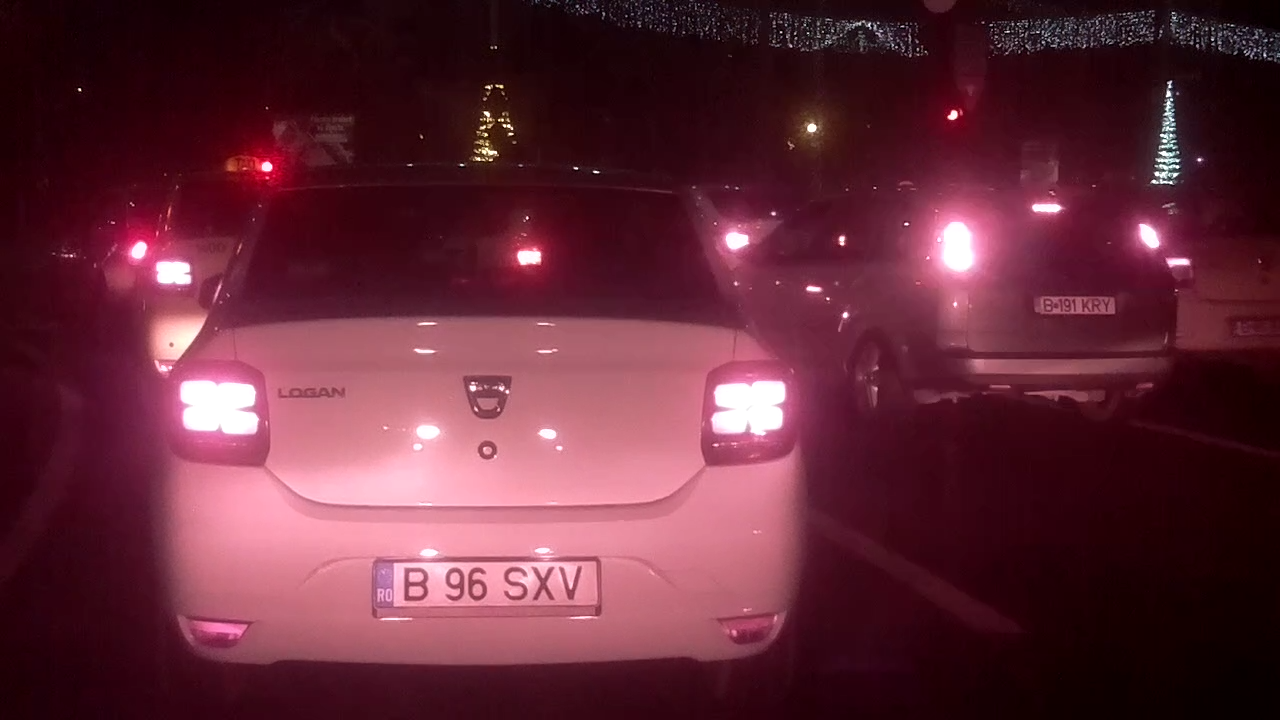license-plate: (368, 555, 605, 614), (1030, 289, 1120, 318)
